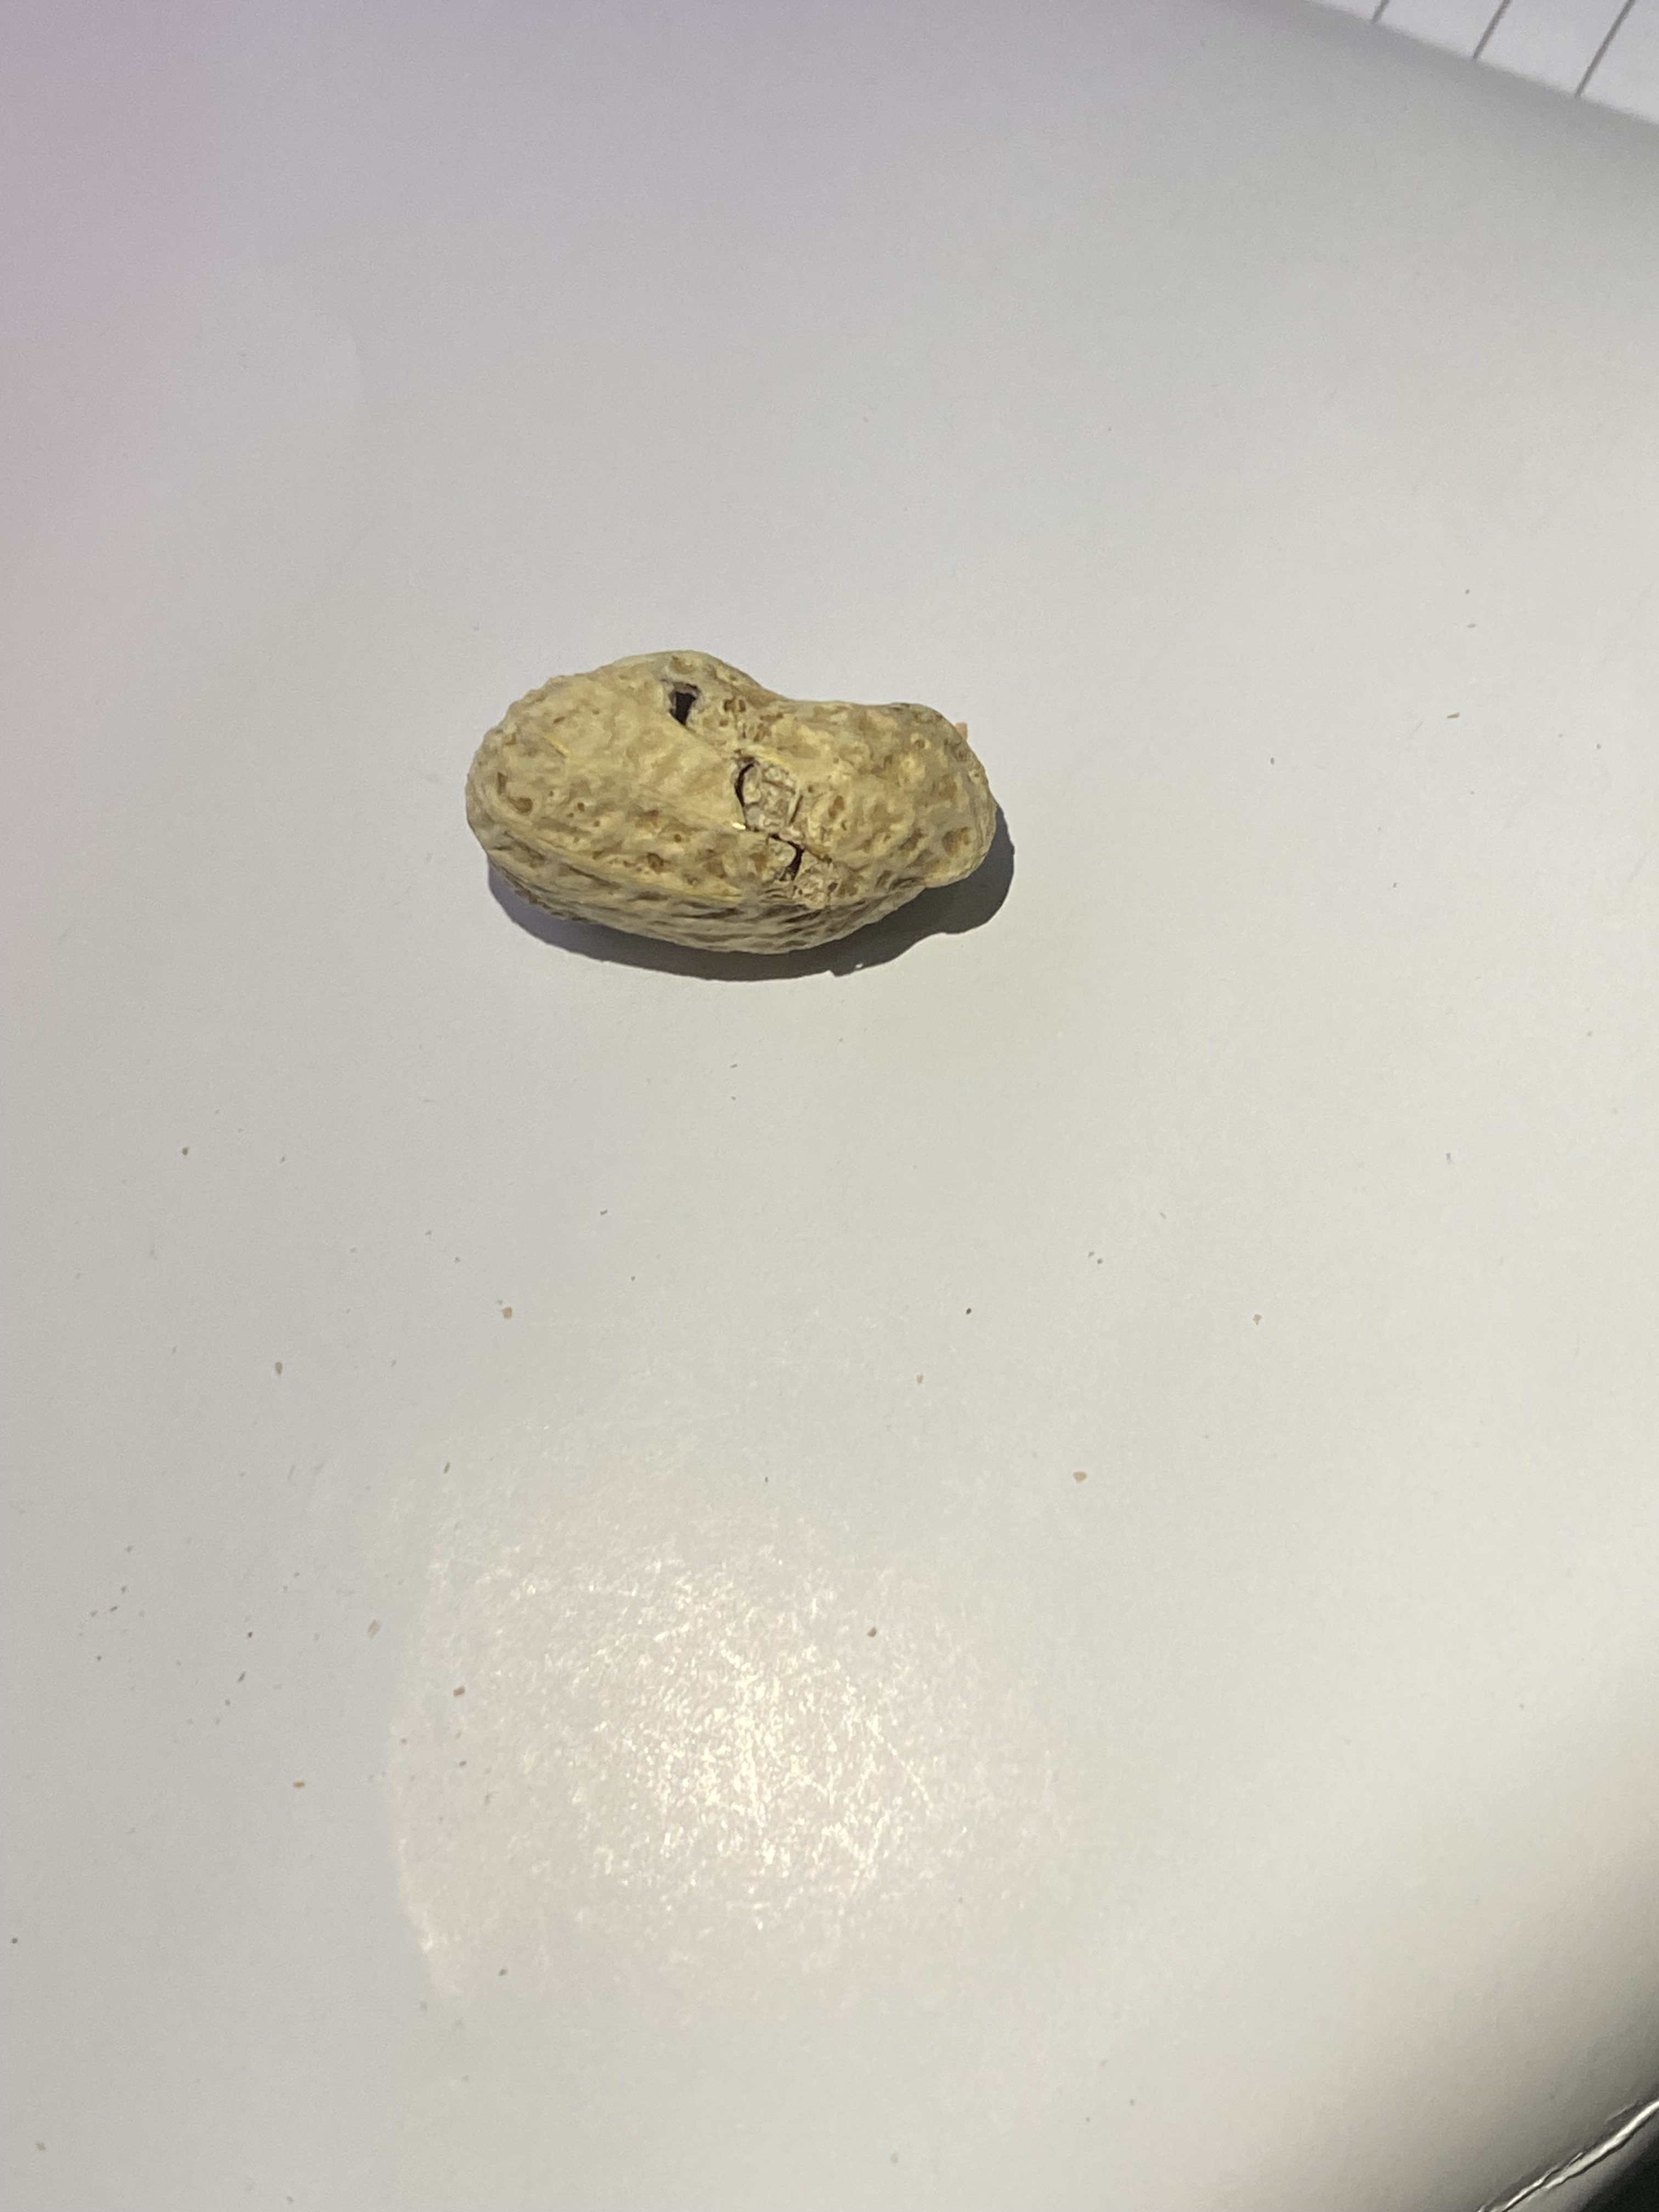kacang1: (460, 618, 1012, 968)
